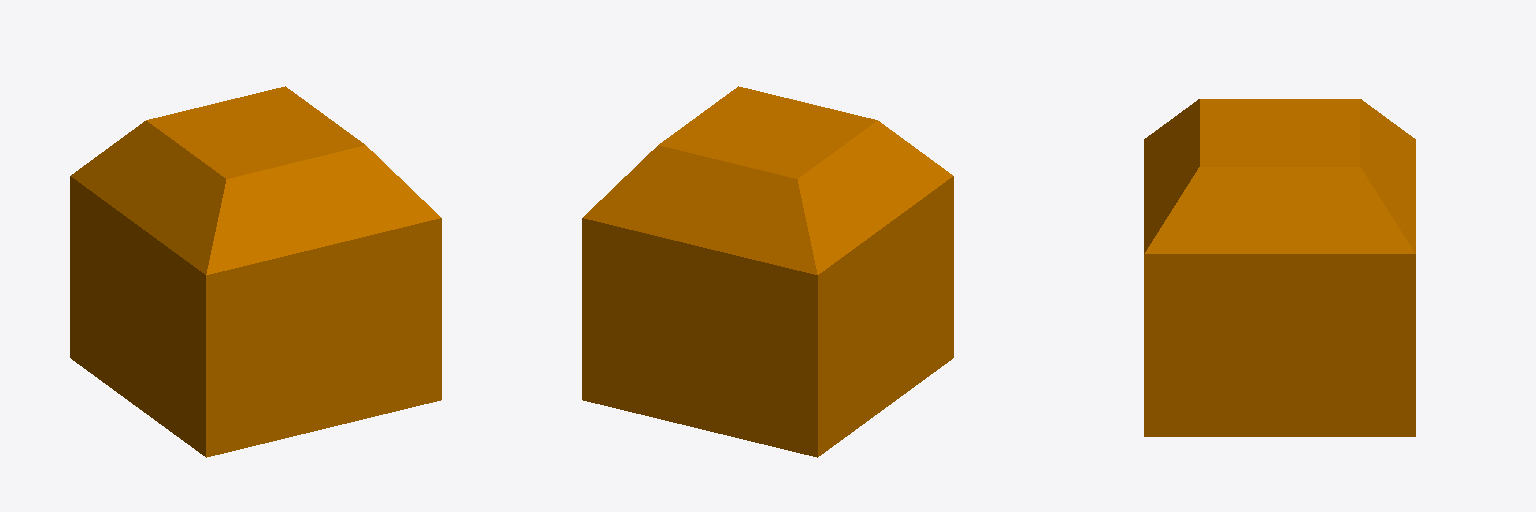
File: Block.obj
The picture shows the model from 3 angles: view 1: azimuth 30°, elevation 25°; view 2: azimuth 150°, elevation 25°; view 3: azimuth 270°, elevation 25°; orthographic projection.
Parts seen in each view (by area): view 1: Block_Cube.002; view 2: Block_Cube.002; view 3: Block_Cube.002.
Part boxes in pixels (x1,y1,x2,y2): Block_Cube.002: (70,86,441,457); Block_Cube.002: (582,86,953,457); Block_Cube.002: (1144,99,1415,436).
Size of the model in its own units: 2 by 2 by 2.